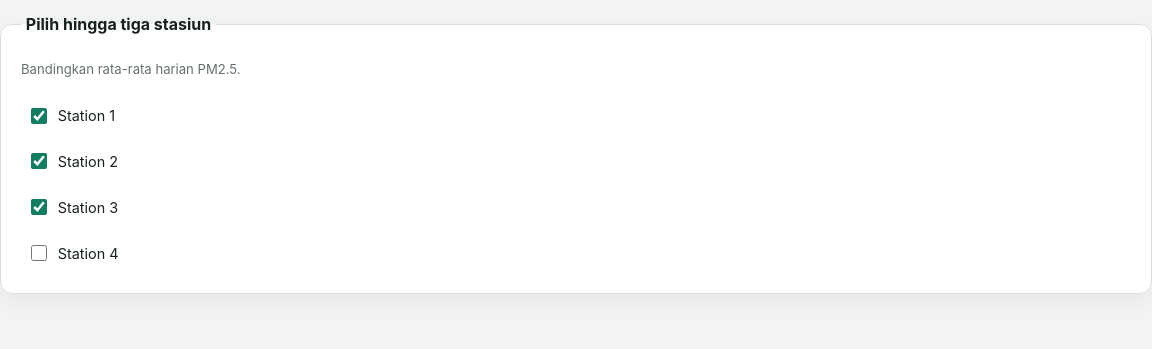
retains three selected stations and announces the exact Indonesian limit message
The width and height of the screenshot is (1152, 349).
Click the checkbox labelled "Station 4" at (39, 253), box [31, 245, 47, 261]
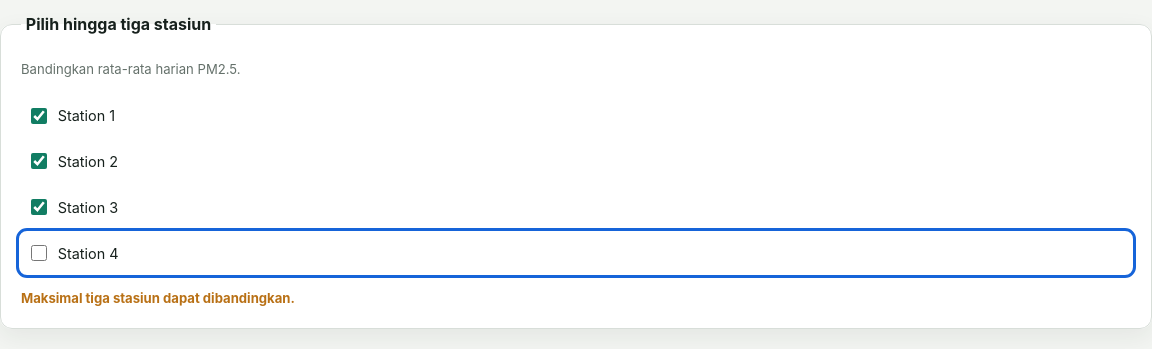
Expected: the checkbox labelled "Station 1" is checked, [31, 108, 47, 124]
Result: the message reads "Maksimal tiga stasiun dapat dibandingkan." at [21, 290, 295, 306]
